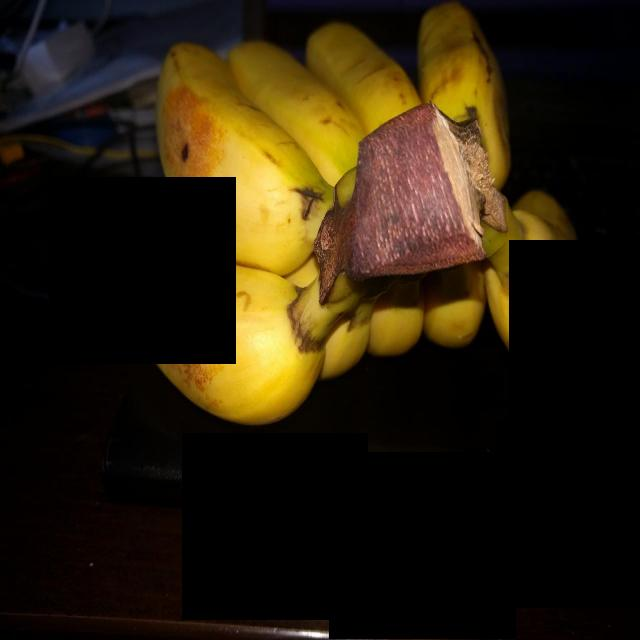banana: (102, 182, 329, 424), (159, 47, 325, 260), (233, 30, 354, 198), (487, 189, 591, 351), (312, 6, 424, 154)
